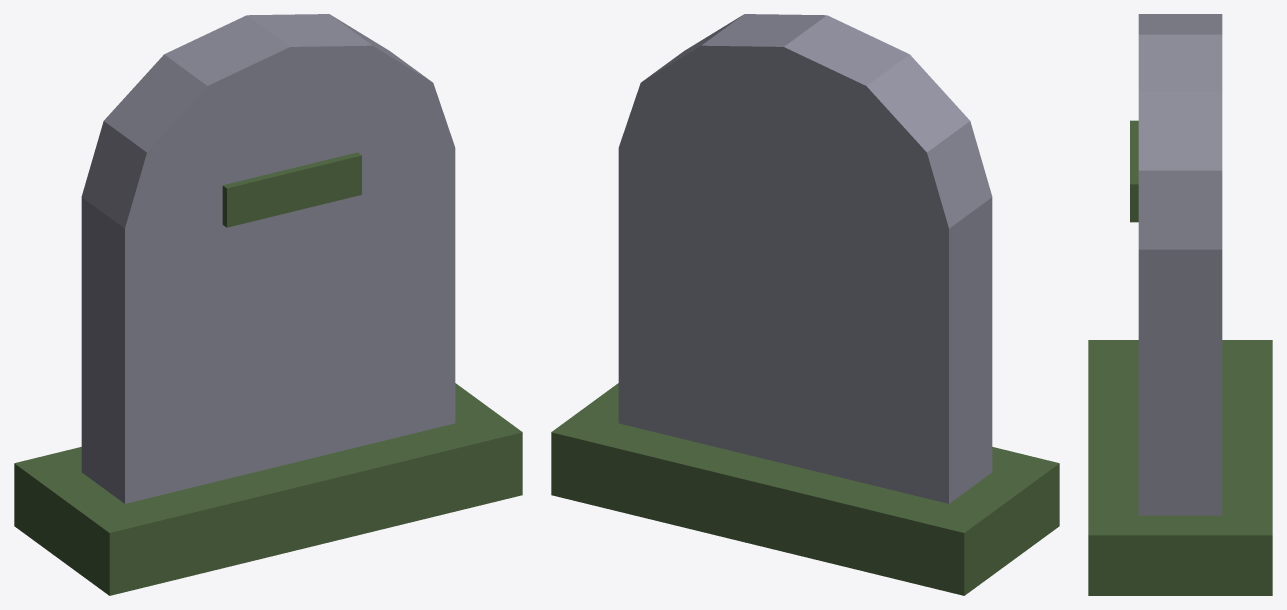
Rendered from lapida.obj.
The picture shows the model from 3 angles, left to right: view 1: azimuth 30°, elevation 25°; view 2: azimuth 150°, elevation 25°; view 3: azimuth 270°, elevation 25°; orthographic projection. The views are drawn at different scales.
Parts seen in each view (by area): view 1: lapida; view 2: lapida; view 3: lapida.
Boxes of the visible parts, left/top/right/bottom form: lapida: left=14, top=14, right=522, bottom=595; lapida: left=551, top=14, right=1059, bottom=595; lapida: left=1088, top=14, right=1272, bottom=595.
Bounding box in the file's own units: 0.55 × 0.61 × 0.22.
